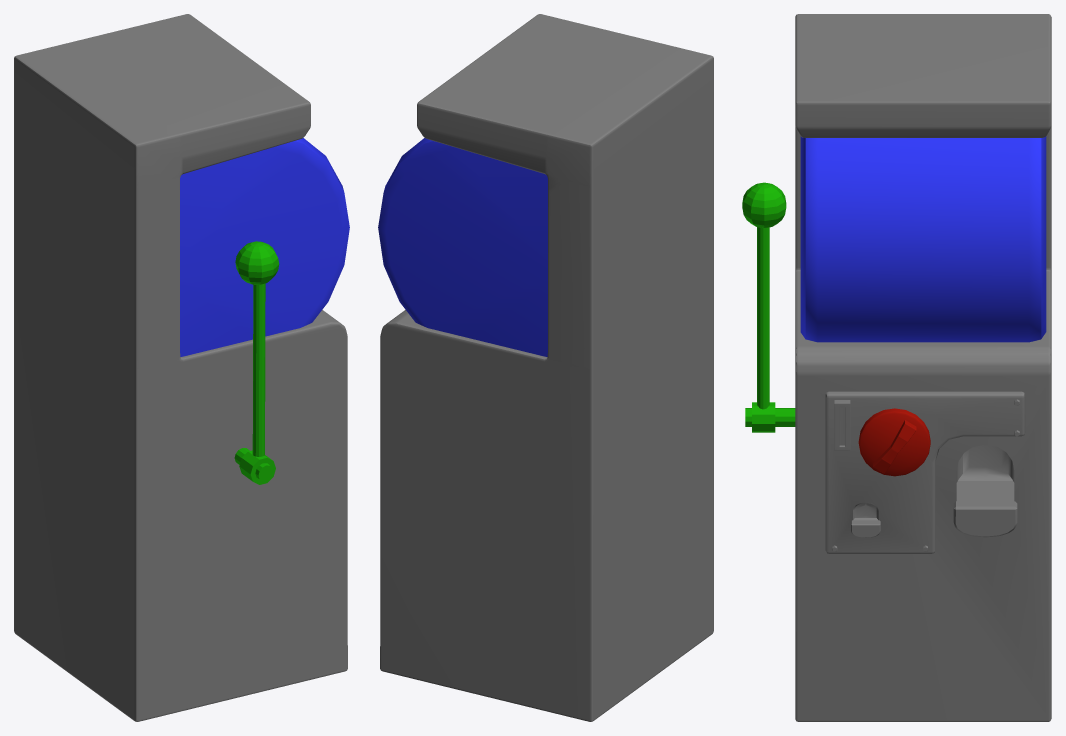
File: Gachapon.obj
3 views of the same model, side by side, from view 1: azimuth 30°, elevation 25°; view 2: azimuth 150°, elevation 25°; view 3: azimuth 270°, elevation 25° (orthographic). The views are drawn at different scales.
Visible parts, largest first — view 1: base, vitre, manette; view 2: base, vitre; view 3: base, vitre, manette, rotate_button.
Boxes of the visible parts, x1=… form: base: x1=14, y1=14, x2=347, y2=721; vitre: x1=180, y1=138, x2=349, y2=356; manette: x1=234, y1=241, x2=279, y2=484; base: x1=380, y1=14, x2=713, y2=721; vitre: x1=378, y1=138, x2=547, y2=356; base: x1=795, y1=14, x2=1051, y2=721; vitre: x1=800, y1=136, x2=1046, y2=342; manette: x1=742, y1=182, x2=795, y2=432; rotate_button: x1=858, y1=408, x2=930, y2=476.
Size of the model in its own units: 3.41 by 7.87 by 3.66.
